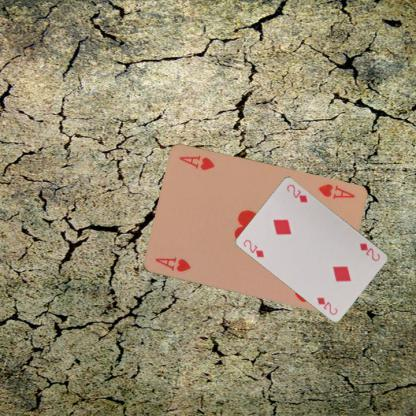2d: (241, 237, 266, 259), (357, 240, 381, 262)
Ah: (315, 181, 356, 201), (152, 255, 192, 273)
